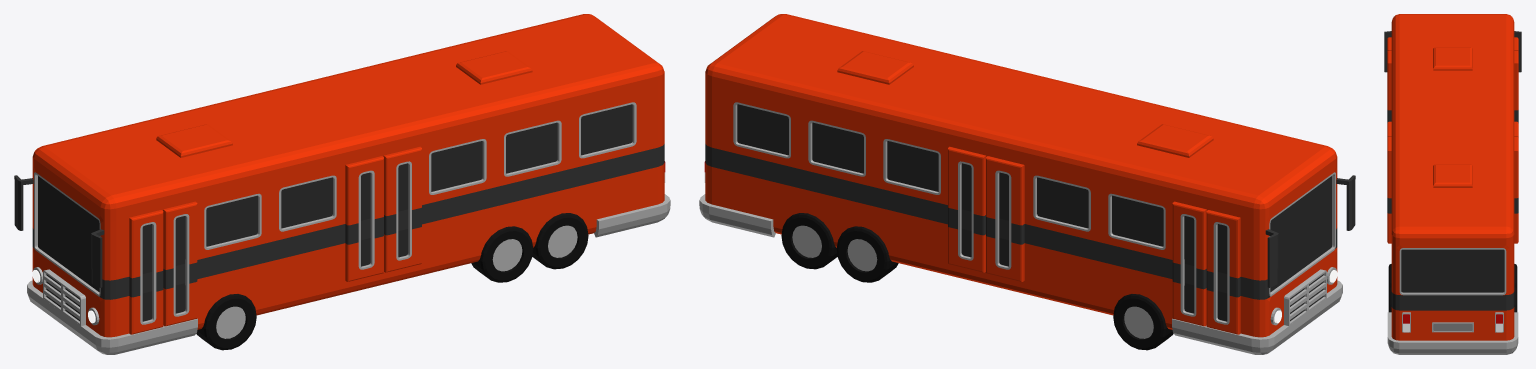
The model's file is Bus.glb.
3 views of the same model, side by side, from view 1: azimuth 30°, elevation 25°; view 2: azimuth 150°, elevation 25°; view 3: azimuth 270°, elevation 25° (orthographic). The views are drawn at different scales.
Parts seen in each view (by area): view 1: bus; view 2: bus; view 3: bus.
Boxes of the visible parts, left/top/right/bottom form: bus: left=14, top=14, right=670, bottom=354; bus: left=699, top=14, right=1355, bottom=354; bus: left=1384, top=14, right=1521, bottom=354.
Size of the model in its own units: 9.85 by 2.96 by 2.52.
